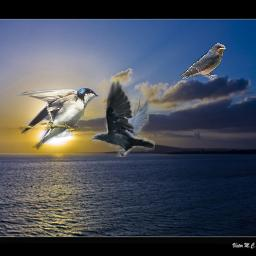Crow: (90, 77, 155, 157)
Swallow: (15, 86, 99, 150), (180, 43, 227, 81)
